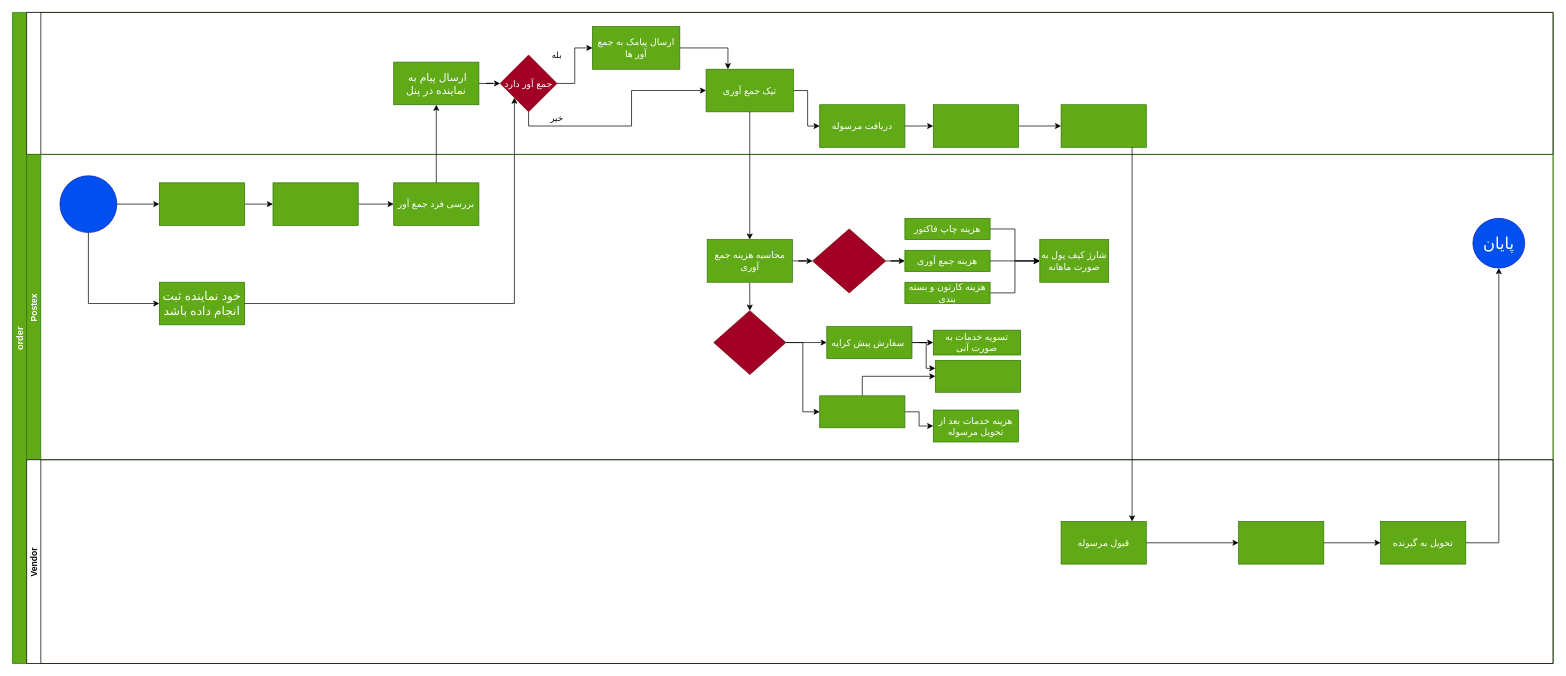
Image size: 1566x676. Some labels were removed from this diagram. The shapes that lost their labels are listed below. From the top down, each one's box as (x1, y1, x2, y2) in pixels, then its label:
(26, 12, 1553, 154): Customer
(933, 104, 1018, 147): تیک آماده به ارسال
(1060, 104, 1146, 147): تحویل به شرکت پستی
(59, 175, 117, 233): شروع
(159, 182, 245, 225): مشتری خود سفارش ثتب کرده
(272, 182, 358, 225): بررسی شهر و مکان
(812, 228, 886, 293): خدمات انتخاب شده توسط مشتری
(713, 310, 786, 375): خود نماینده ثبت کرده باشد
(935, 360, 1021, 392): هزینه جمع آوری ماهانه
(819, 395, 905, 428): سفارش پس کرایه
(1238, 521, 1324, 564): قرار گرفتن در روند ارسال
